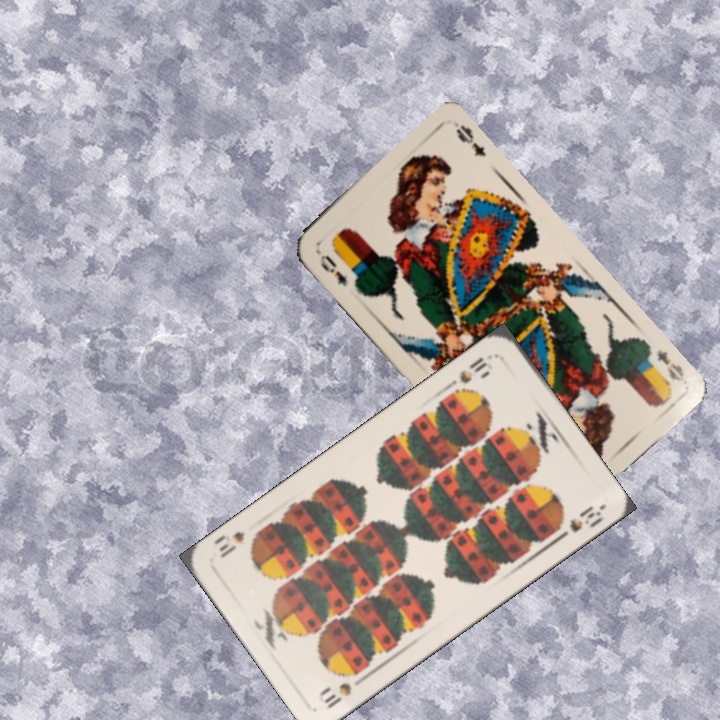EO: (312, 246, 350, 289), (652, 345, 687, 385)
S10: (314, 671, 369, 712), (455, 352, 490, 387)
